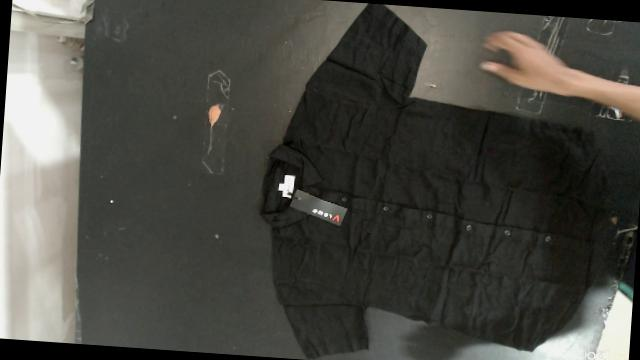new-garment: (260, 3, 605, 357)
